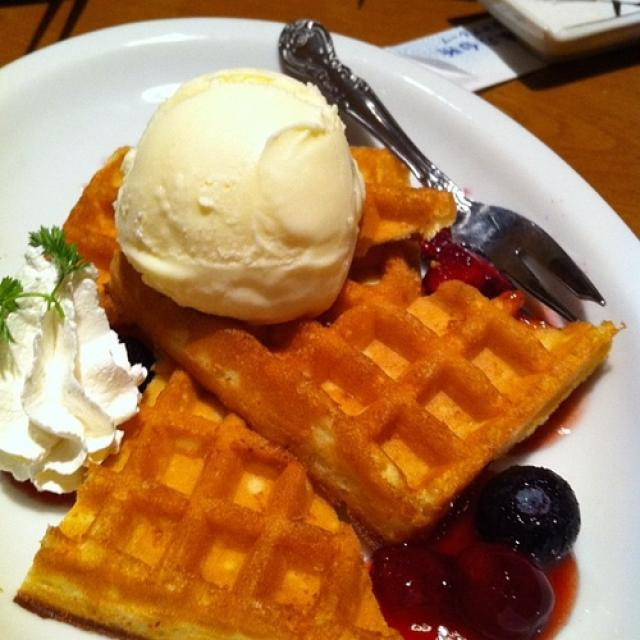面包点心: (0, 143, 640, 589)
